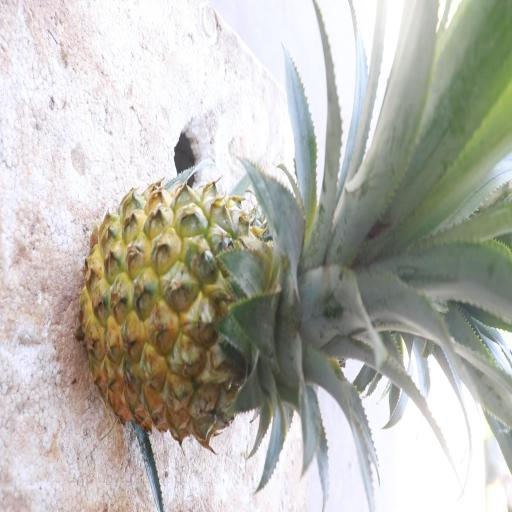Pineapple - v8 v1: (77, 174, 393, 453)
